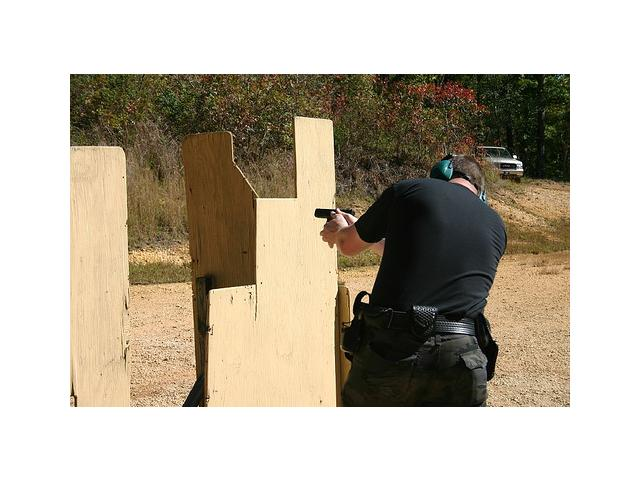pistol: (311, 204, 355, 248)
